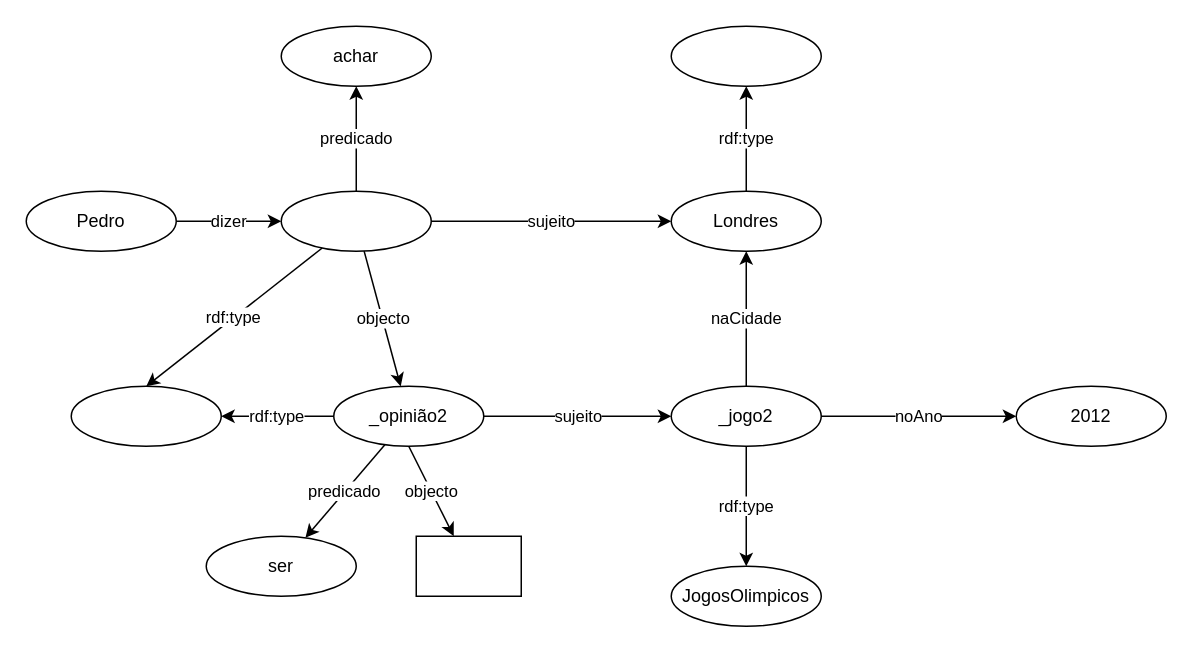
Image size: 1193x653. Some labels were removed from this diagram. The shapes that lost their labels are listed below. From the top down, each one's centre as x and y in pixels, then its label:
At pixel 745 55: "Cidade".
At pixel 355 220: "_opinião1".
At pixel 145 415: "rdf:Statment".
At pixel 468 565: "fabulosa".
